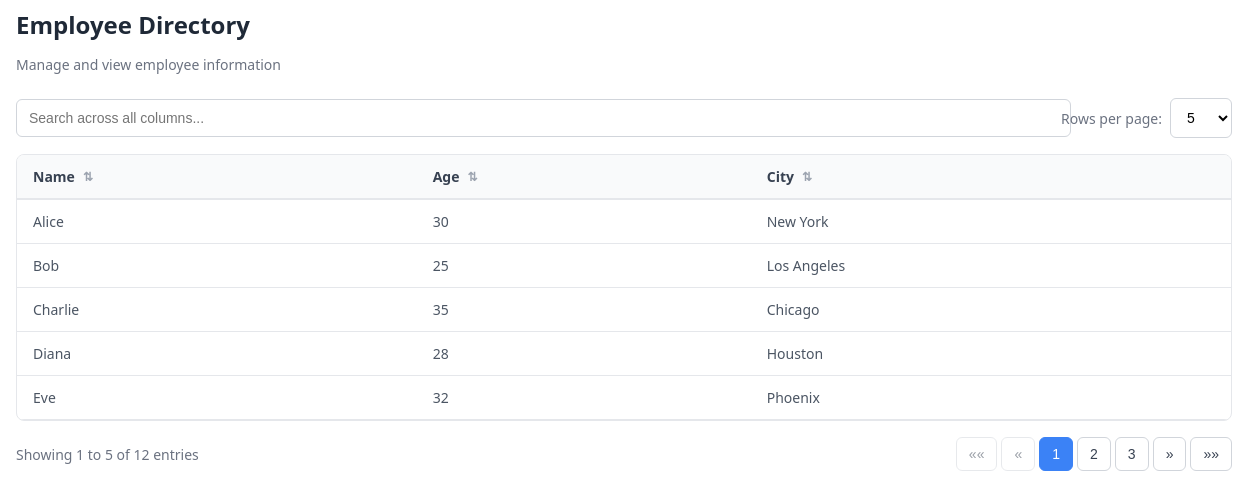
Test: DataTable Component › Filtering › resets to page 1 when filtering
// Go to page 2
Click the button with test id "page-btn-2": (1094, 454) [1077,437,1111,471]
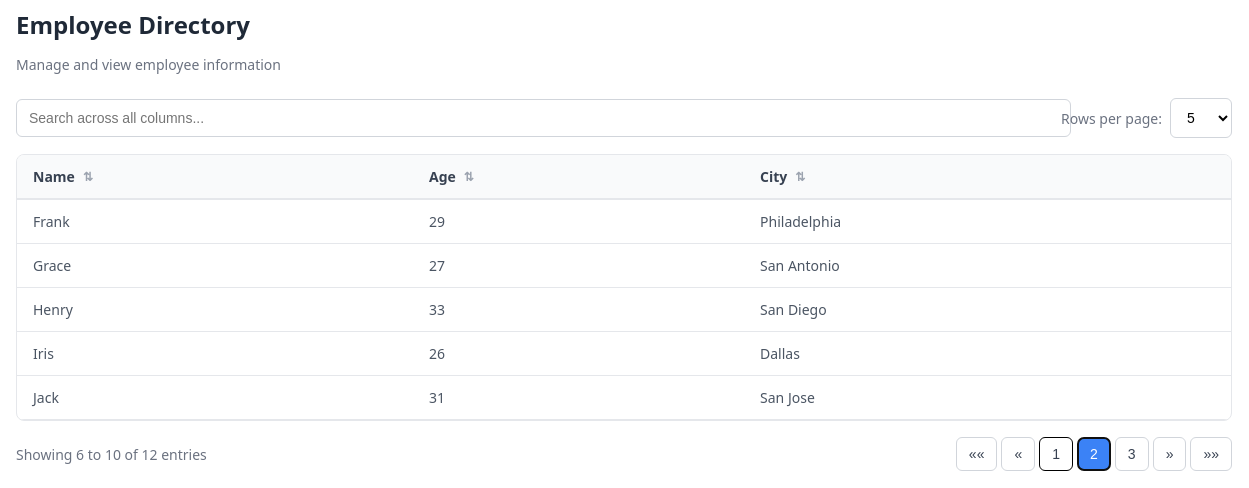
expect the text with test id "page-info" shows "Showing 6 to 10": met, box [16,445,207,464]
// Filter should reset to page 1
In the field with test id "filter-input": (544, 118) [16,99,1071,137], type "a"
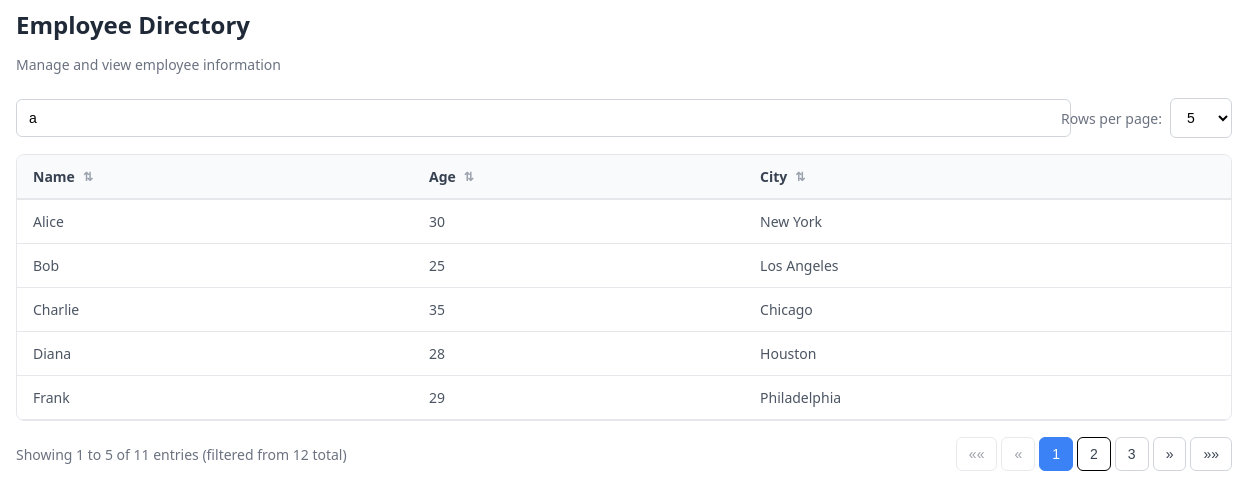
expect the text with test id "page-info" shows "Showing 1 to": met, box [16,445,347,464]
